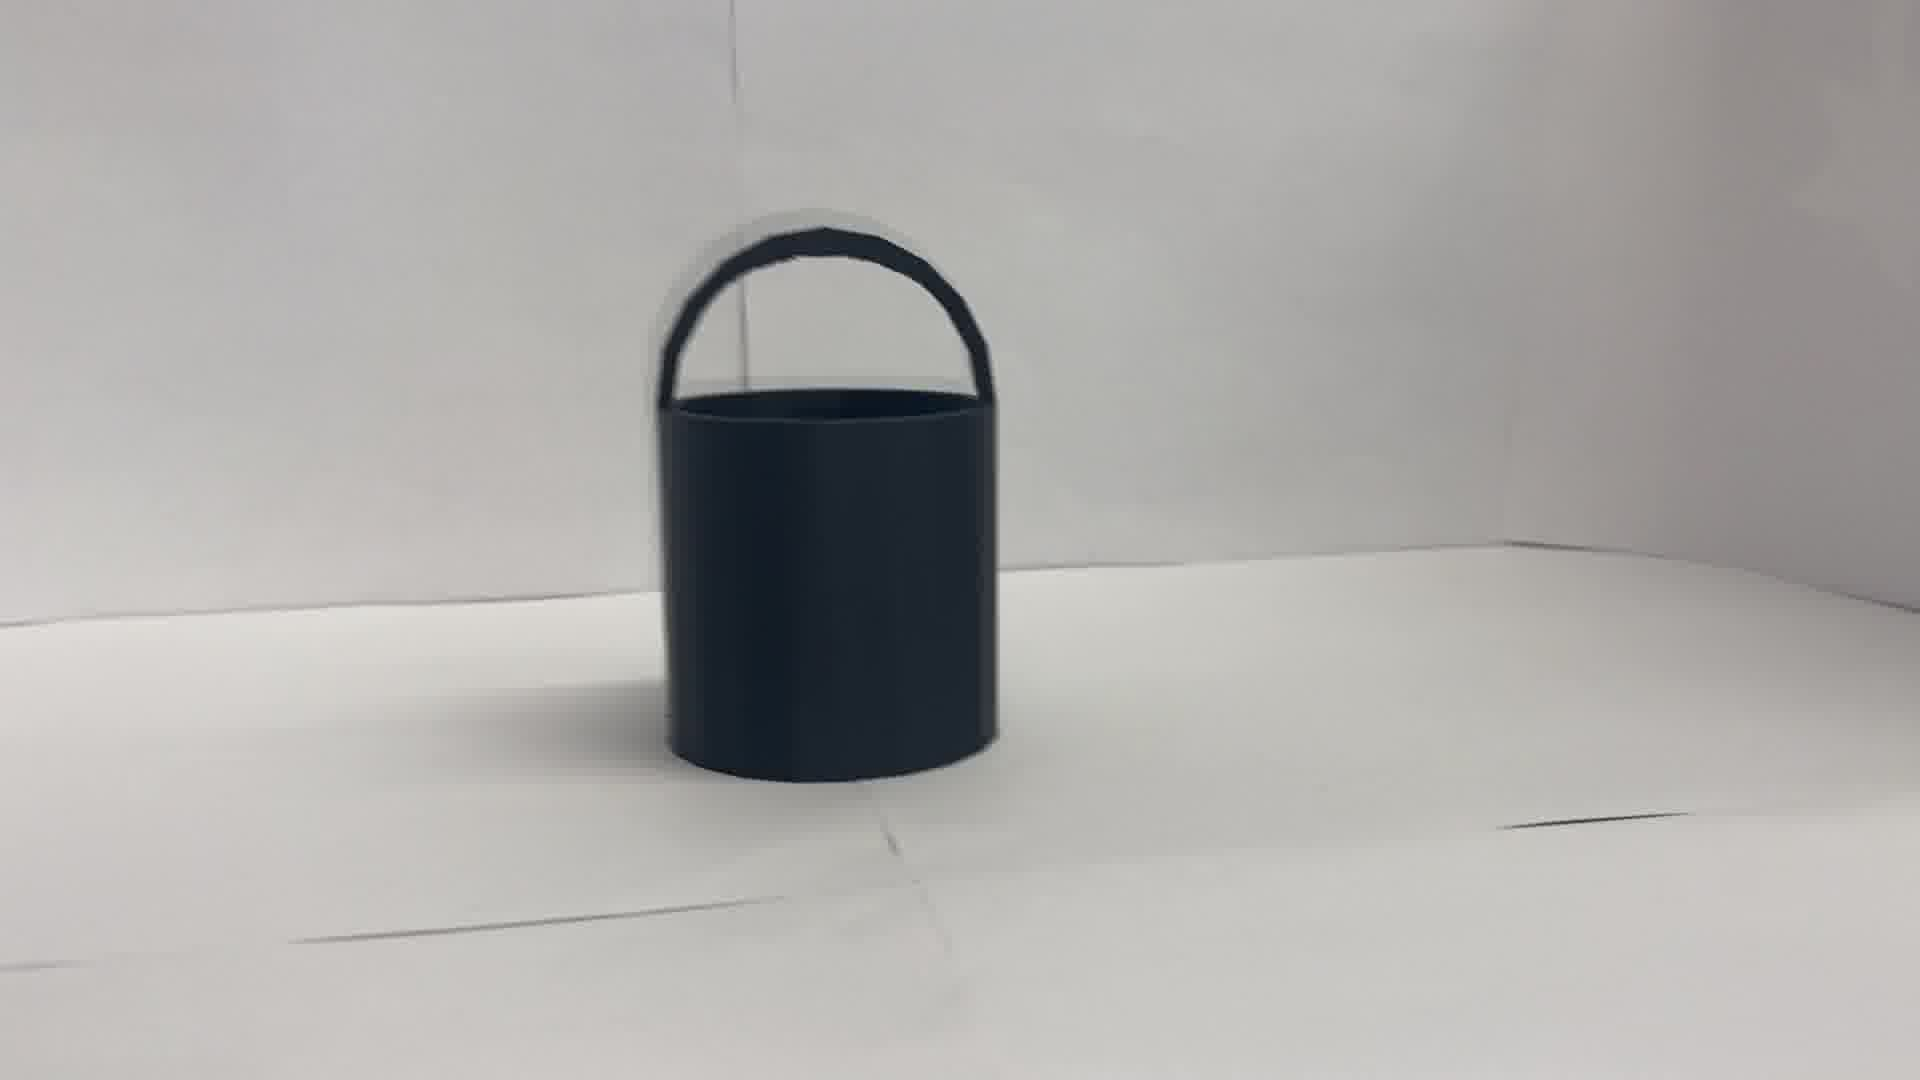bag: (651, 216, 1006, 783)
